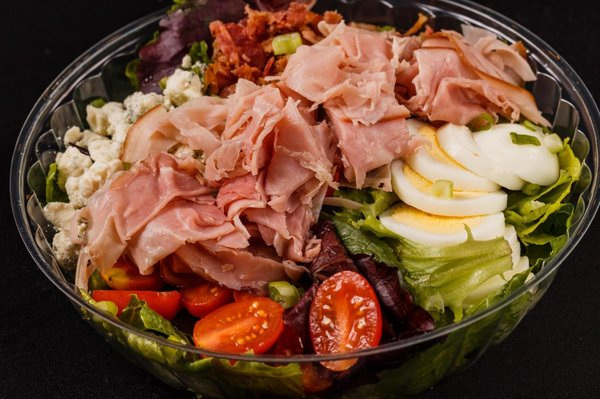sushi: (9, 7, 561, 394)
